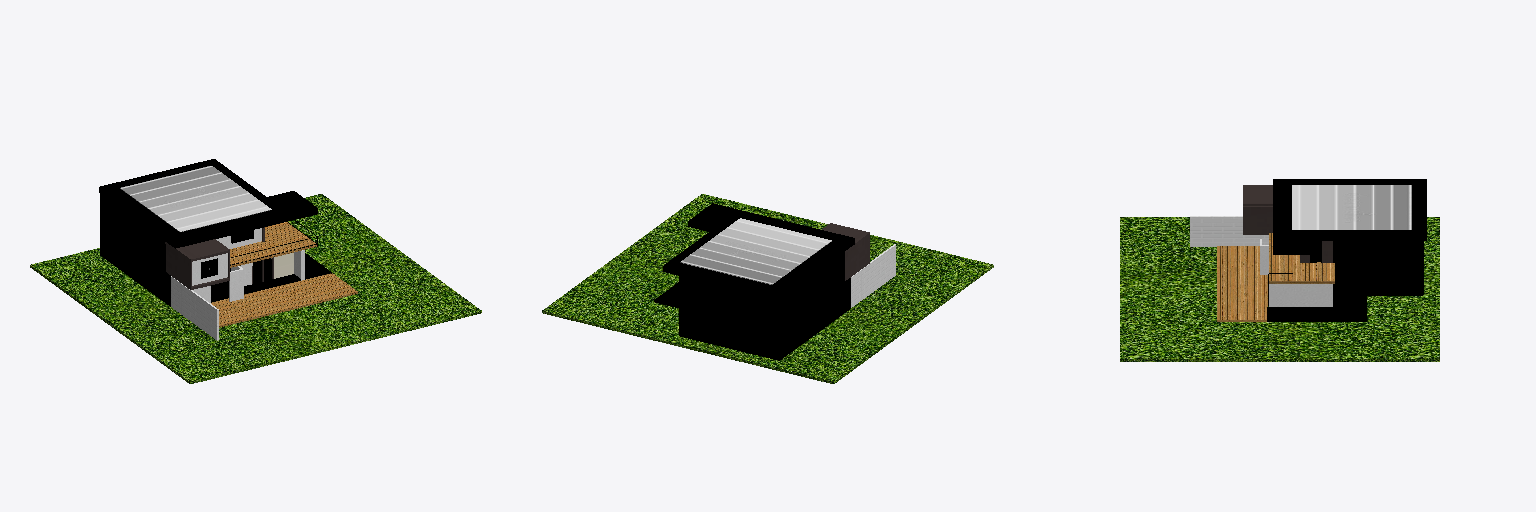
3 renders of one model, left to right at view 1: azimuth 30°, elevation 25°; view 2: azimuth 150°, elevation 25°; view 3: azimuth 270°, elevation 25°, orthographic.
Visible parts, largest first — view 1: polySurface291; view 2: polySurface291; view 3: polySurface291.
Boxes of the visible parts, box(x1,y1,x2,y2) form: polySurface291: box(30, 159, 481, 383); polySurface291: box(542, 194, 993, 383); polySurface291: box(1120, 179, 1439, 361).
Bounding box in the file's own units: 25.66 × 6.2 × 24.39.
76 materials, 8 textured.